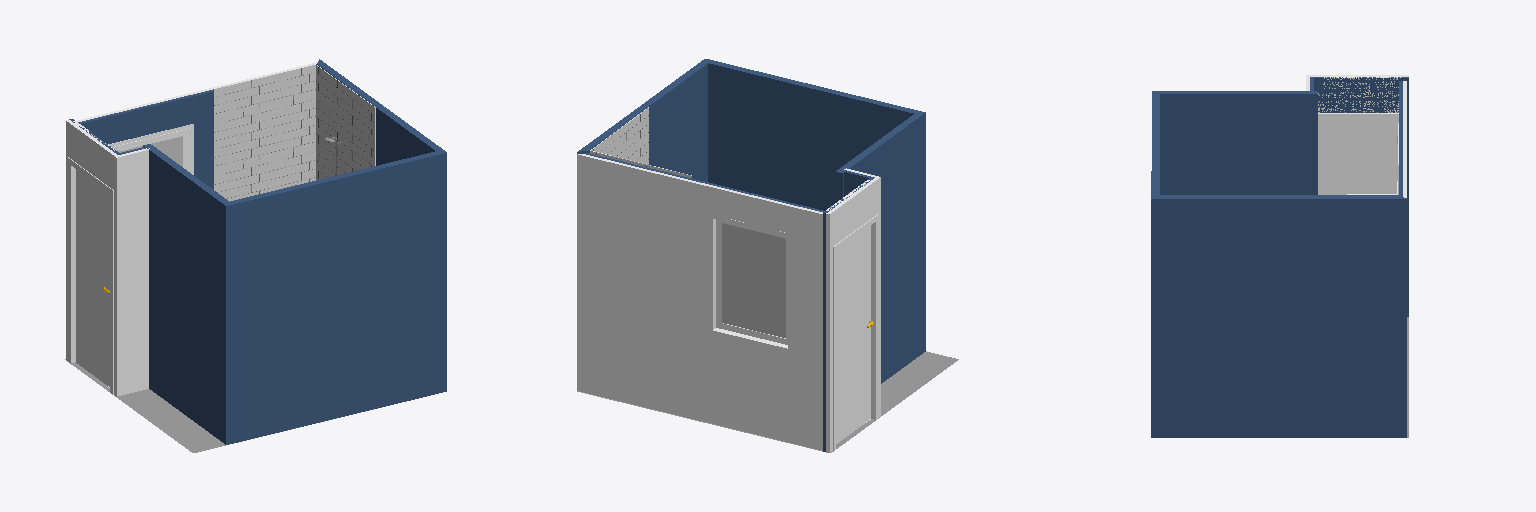
3 views of the same model, side by side, from view 1: azimuth 30°, elevation 25°; view 2: azimuth 150°, elevation 25°; view 3: azimuth 270°, elevation 25° (orthographic).
Visible parts, largest first — view 1: wall_3_16, wall_4_22, wall_9_53, wall_5_28, sweethome3d_opening_on_hinge_1_door_71, wall_10_59, wall_1_5, ground_1, frame_63, wall_2_11, wall_6_34, wall_8_46 (+2 smaller); view 2: wall_1_4, wall_3_17, wall_4_22, sweethome3d_opening_on_hinge_1_door_71, sweethome3d_window_pane_on_hinge_1_78, wall_2_11, wall_6_34, frame_72, frame_63, ground_1, wall_10_59, sweethome3d_opening_on_hinge_1_77 (+1 smaller); view 3: wall_2_10, wall_4_23, sweethome3d_opening_on_hinge_1_door_71, wall_6_35.
Part boxes in pixels (x1,y1,x2,y2): wall_3_16: (226, 153, 446, 444); wall_4_22: (143, 146, 225, 444); wall_9_53: (214, 65, 315, 201); wall_5_28: (117, 150, 148, 395); sweethome3d_opening_on_hinge_1_door_71: (76, 169, 109, 386); wall_10_59: (316, 65, 374, 179); wall_1_5: (81, 91, 213, 189); ground_1: (65, 359, 406, 452); frame_63: (68, 157, 113, 394); wall_2_11: (317, 64, 434, 165); wall_6_34: (66, 121, 116, 396); wall_8_46: (68, 122, 110, 184); wall_1_4: (577, 154, 822, 450); wall_3_17: (708, 63, 913, 210); wall_4_22: (839, 113, 925, 383); sweethome3d_opening_on_hinge_1_door_71: (836, 226, 870, 443); sweethome3d_window_pane_on_hinge_1_78: (722, 223, 785, 337); wall_2_11: (583, 64, 707, 181); wall_6_34: (826, 177, 880, 452); frame_72: (707, 214, 792, 353); frame_63: (833, 214, 878, 450); ground_1: (577, 351, 958, 452); wall_10_59: (591, 108, 648, 164); sweethome3d_opening_on_hinge_1_77: (716, 219, 787, 344); wall_2_10: (1151, 199, 1406, 437); wall_4_23: (1160, 94, 1317, 194); sweethome3d_opening_on_hinge_1_door_71: (1318, 118, 1397, 194); wall_6_35: (1314, 78, 1408, 316).
Bounding box in the file's own units: 272 × 244 × 238.
12 materials, 1 textured.